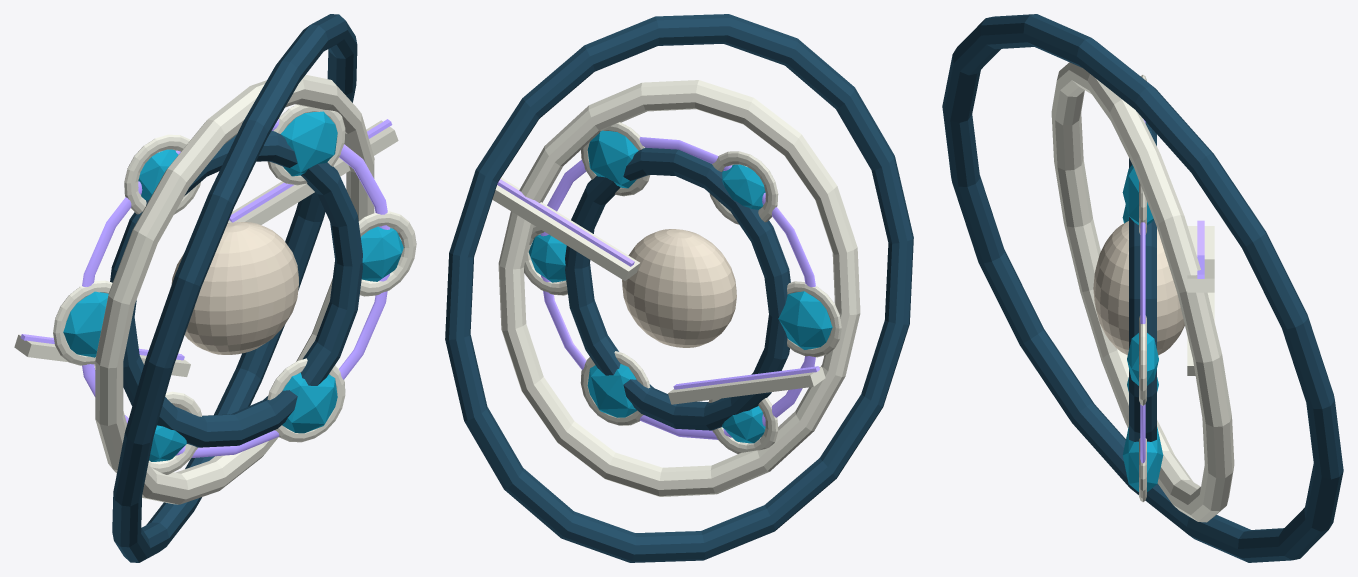
Rendered from landmark-medium.glb.
3 views of the same model, side by side, from view 1: azimuth 30°, elevation 25°; view 2: azimuth 150°, elevation 25°; view 3: azimuth 270°, elevation 25° (orthographic). The views are drawn at different scales.
Parts seen in each view (by area): view 1: accent_static, porcelain_static, hull_static, glass_static, motion-lens-ring, trim_static; view 2: accent_static, porcelain_static, hull_static, glass_static, motion-lens-ring, trim_static; view 3: accent_static, porcelain_static, hull_static, glass_static, motion-lens-ring.
Part boxes in pixels (left/top/right/bottom): accent_static: left=110, top=14, right=362, bottom=562; porcelain_static: left=14, top=74, right=416, bottom=504; hull_static: left=171, top=222, right=298, bottom=354; glass_static: left=63, top=111, right=403, bottom=461; motion-lens-ring: left=82, top=119, right=390, bottom=457; trim_static: left=20, top=119, right=392, bottom=360; accent_static: left=445, top=14, right=913, bottom=562; porcelain_static: left=492, top=80, right=860, bottom=496; hull_static: left=622, top=229, right=736, bottom=347; glass_static: left=528, top=130, right=832, bottom=443; motion-lens-ring: left=540, top=137, right=815, bottom=439; trim_static: left=497, top=179, right=819, bottom=389; accent_static: left=942, top=14, right=1343, bottom=562; porcelain_static: left=1051, top=62, right=1234, bottom=522; hull_static: left=1093, top=221, right=1184, bottom=355; glass_static: left=1122, top=164, right=1163, bottom=491; motion-lens-ring: left=1140, top=119, right=1145, bottom=463.
Size of the model in its own units: 1115 by 1552 by 1021.
